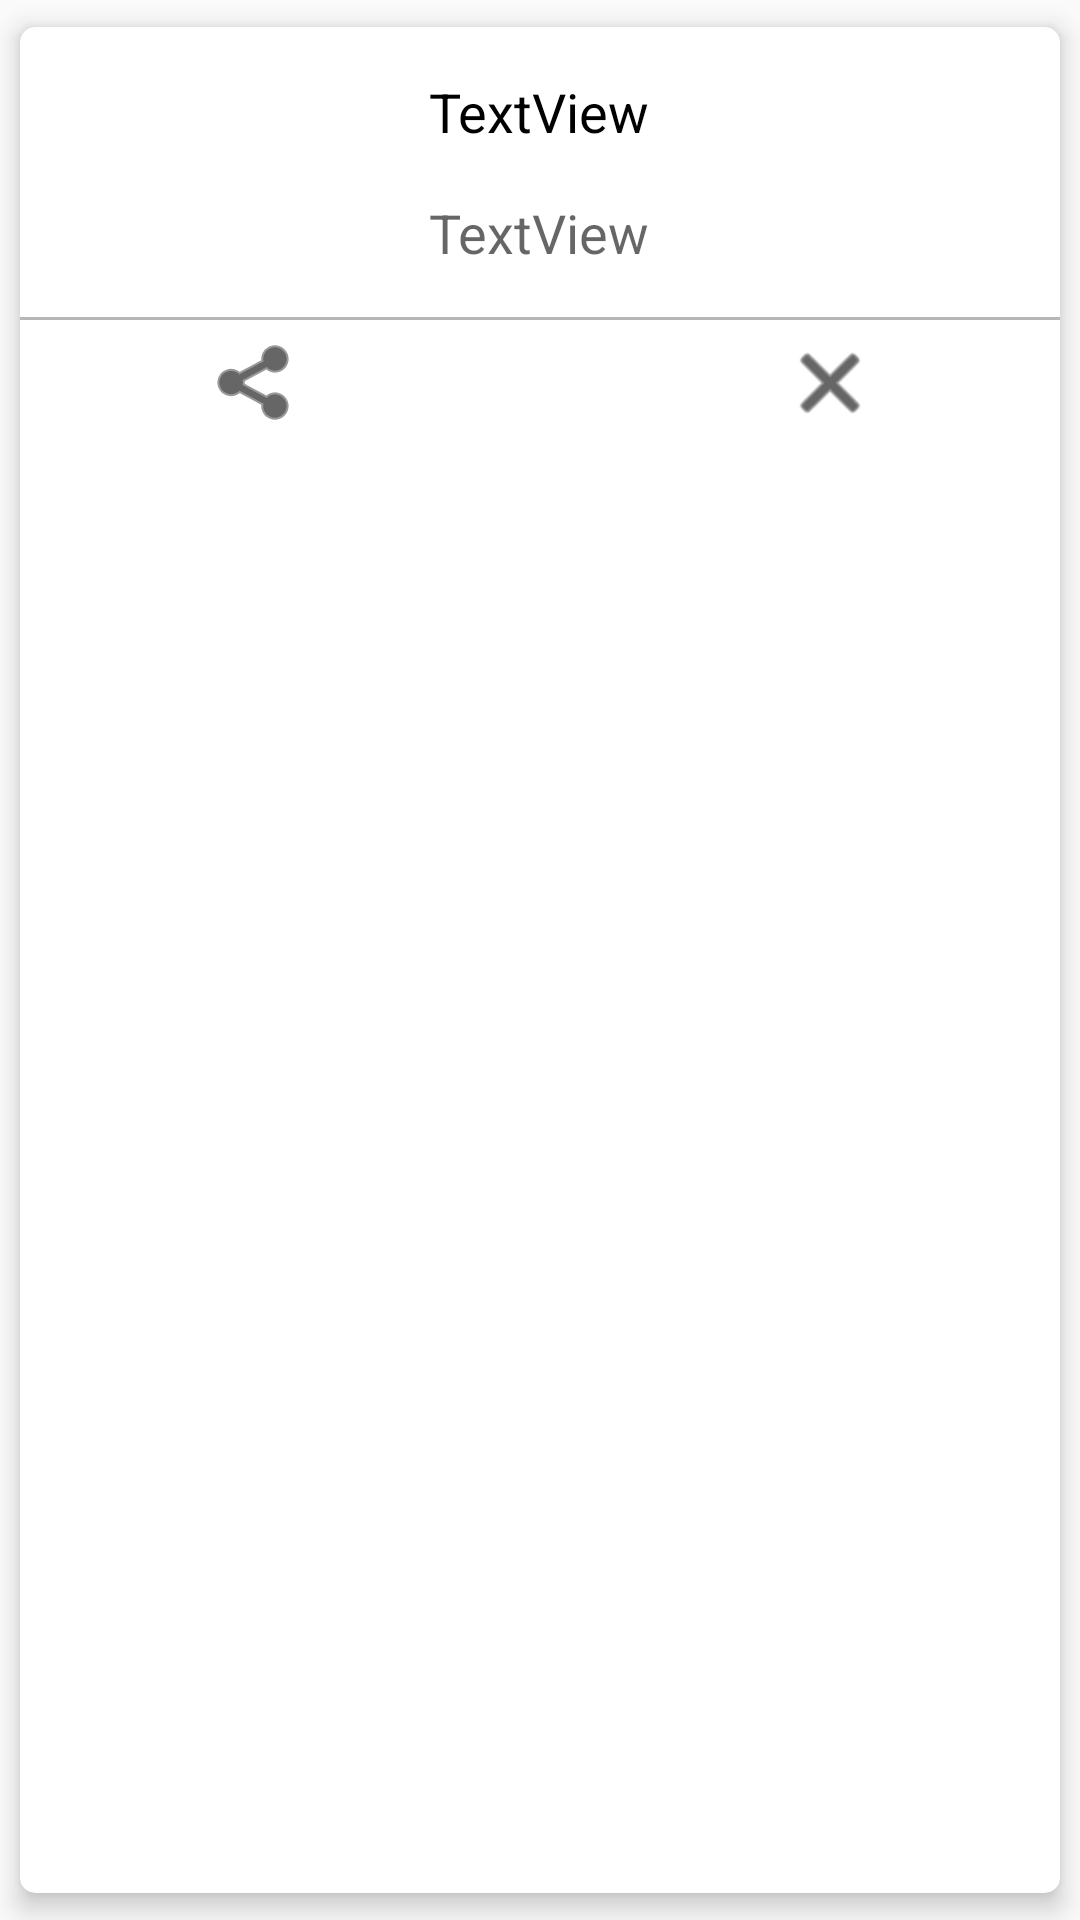

Icons on this 1080px×1920px Android screen, each with the point to tap as (x,y):
close clear cancel: (830,383)
share: (253,382)
